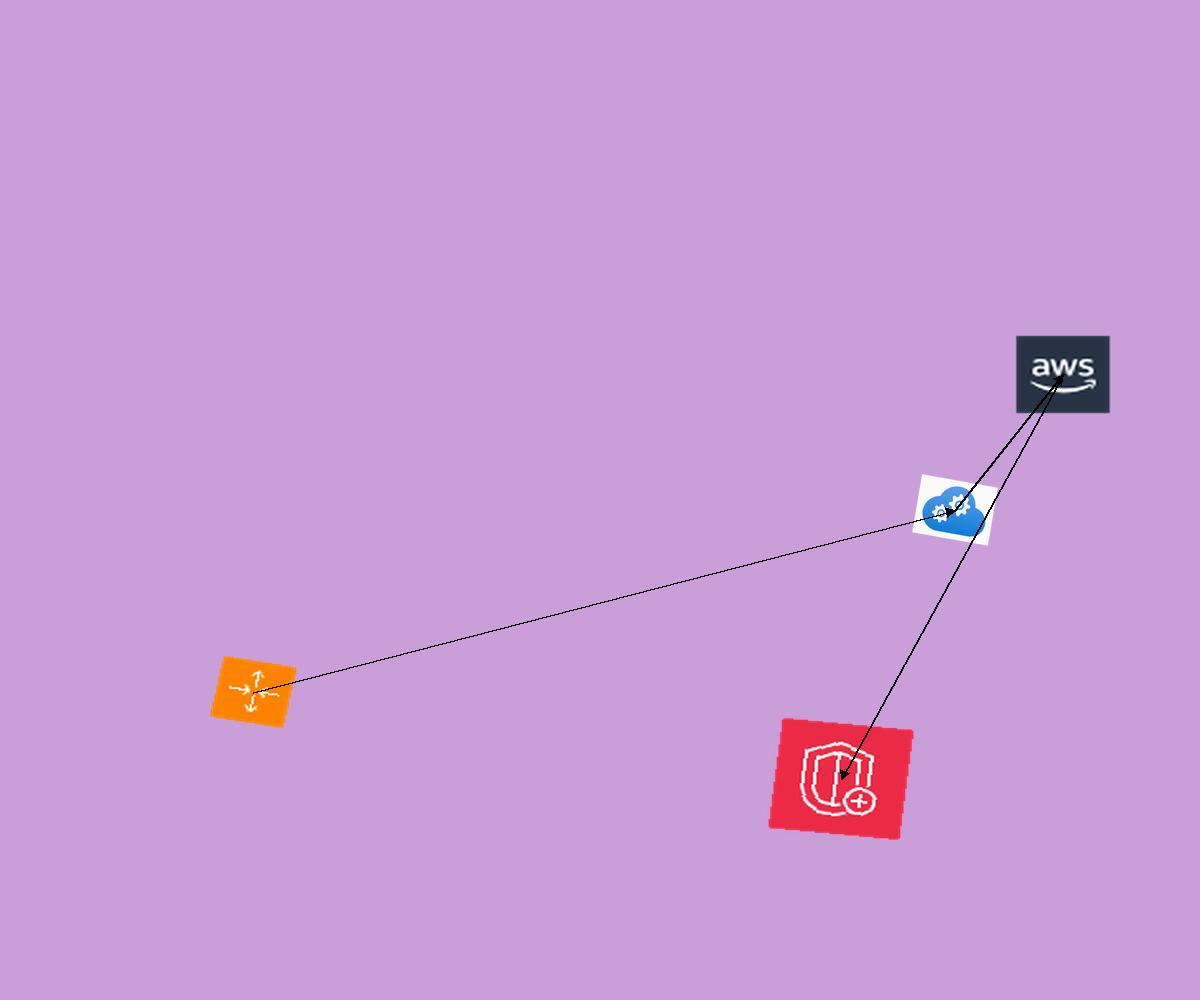AWS-Cloud-logo: (1014, 334, 1112, 415)
AWS-Scaling-group: (209, 655, 298, 729)
AWS-Shield: (767, 717, 915, 841)
Azure_cloud_services: (912, 474, 998, 546)
